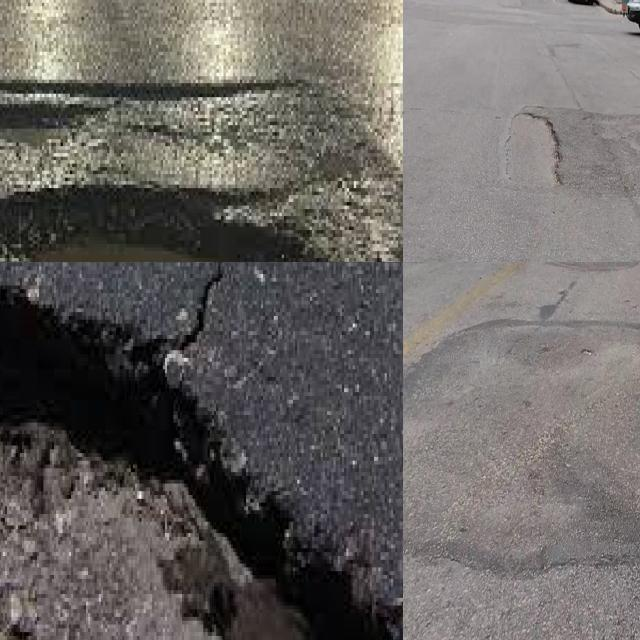Pothole: (0, 288, 403, 640), (0, 185, 298, 262), (505, 111, 562, 188), (0, 104, 106, 130)
